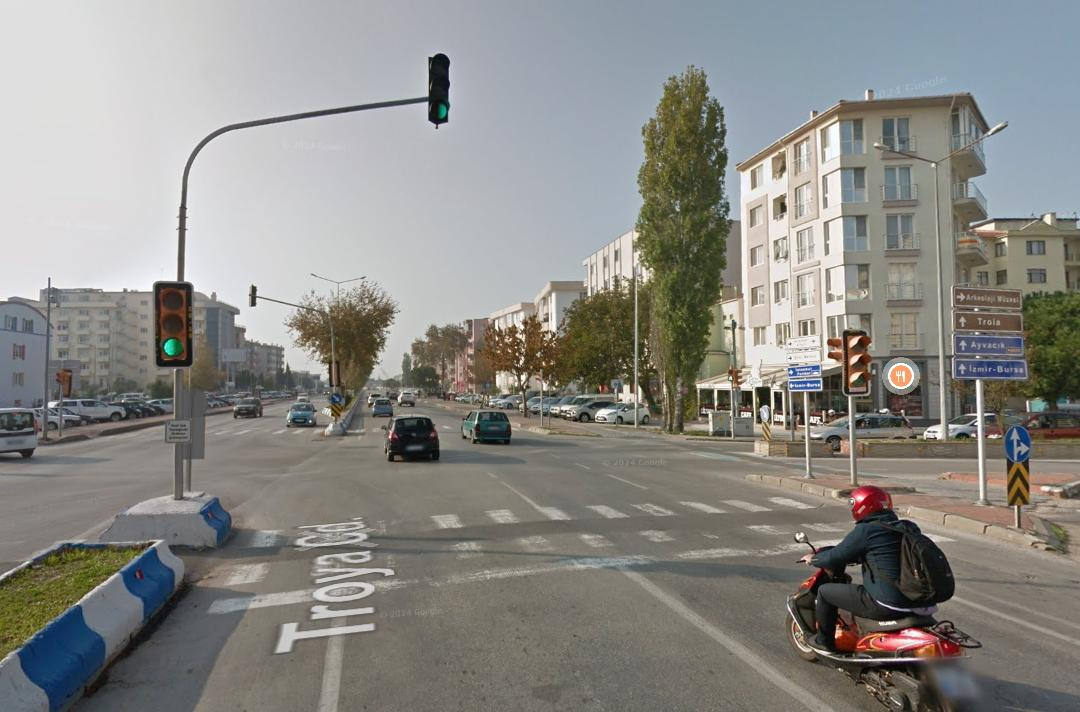greenlight: (152, 285, 187, 360), (428, 54, 453, 125)
